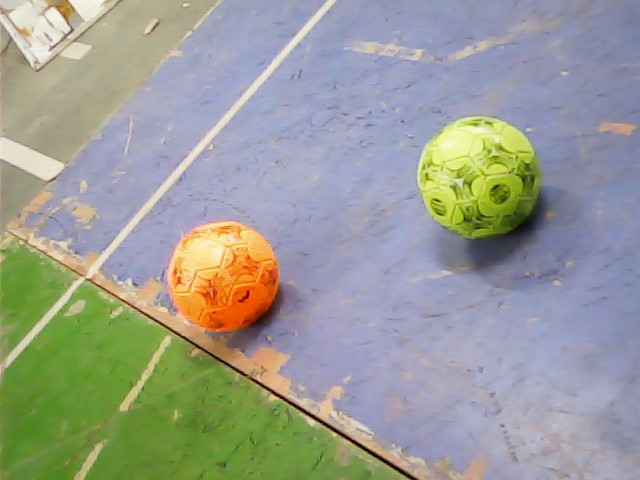Green_ball: (415, 116, 544, 237)
Orange_ball: (164, 218, 282, 331)
